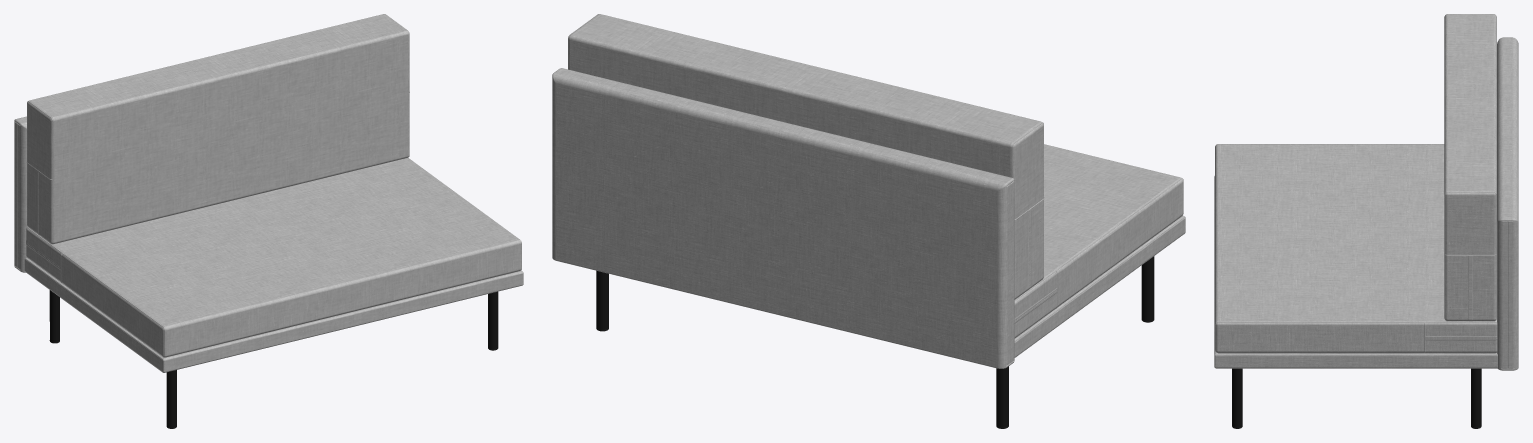
File: Sofa-1200.glb
The picture shows the model from 3 angles, left to right: view 1: azimuth 30°, elevation 25°; view 2: azimuth 150°, elevation 25°; view 3: azimuth 270°, elevation 25°; orthographic projection. The views are drawn at different scales.
Visible parts, largest first — view 1: Body1.210, Body2.009; view 2: Body1.210, Body2.009; view 3: Body1.210, Body2.009.
Boxes of the visible parts, x1,y1,x2,y2 form: Body1.210: [14, 14, 523, 372]; Body2.009: [49, 290, 498, 427]; Body1.210: [552, 14, 1185, 368]; Body2.009: [596, 256, 1154, 427]; Body1.210: [1214, 14, 1518, 370]; Body2.009: [1232, 368, 1481, 427].
Bounding box in the file's own units: 1.23 × 0.7665 × 0.867.
Materials: 6 (2 with a texture image).
